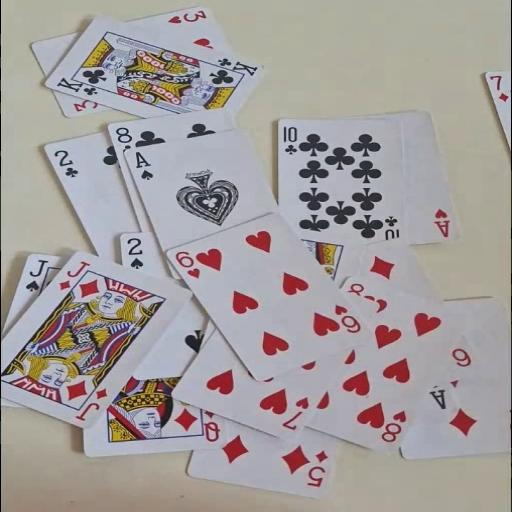10: (281, 125, 299, 155)
2: (50, 148, 80, 178), (124, 236, 146, 270)
3: (165, 8, 208, 24)
5: (304, 448, 330, 489)
6: (331, 302, 363, 334), (172, 249, 202, 279)
7: (279, 395, 312, 431), (486, 74, 510, 102)
8: (378, 408, 408, 444), (113, 125, 134, 151)
A: (132, 149, 154, 181), (432, 206, 452, 238)
J: (72, 386, 109, 422), (55, 259, 93, 291)
K: (53, 75, 100, 96), (215, 56, 259, 76)
